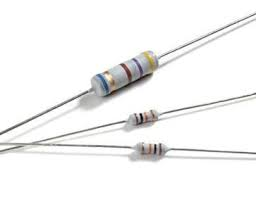resistor: (73, 32, 169, 101), (122, 101, 170, 132), (127, 135, 174, 164)
